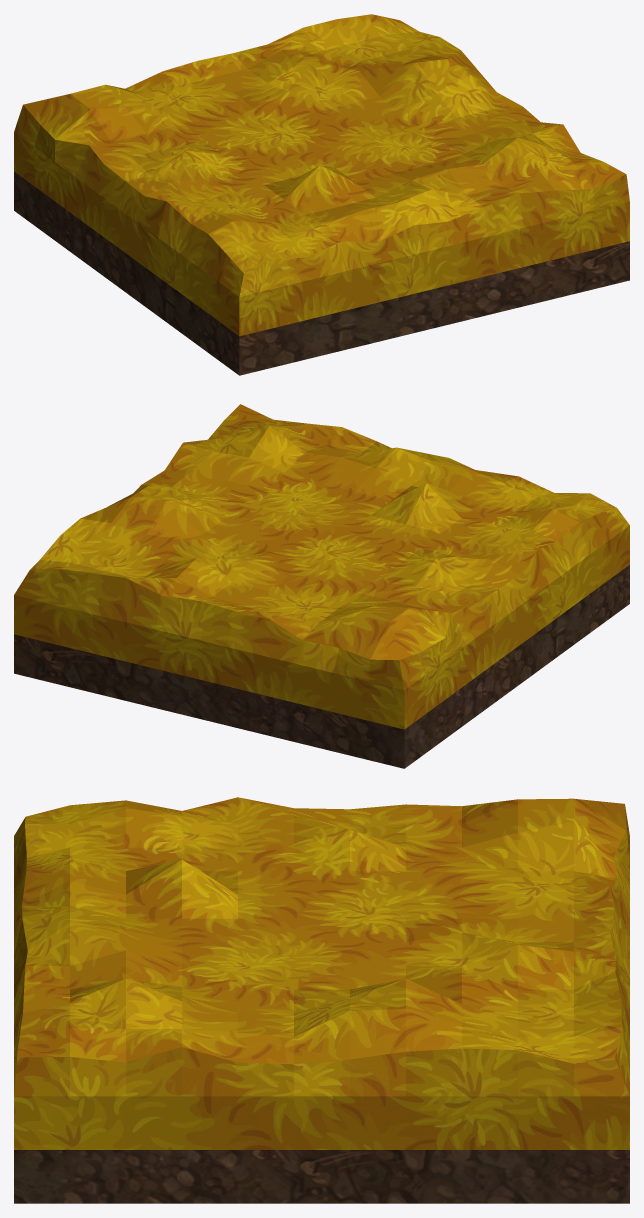
Rendered from DeadGround.fbx.
3 renders of one model, top to bottom at view 1: azimuth 30°, elevation 25°; view 2: azimuth 150°, elevation 25°; view 3: azimuth 270°, elevation 25°, orthographic. The views are drawn at different scales.
Visible parts, largest first — view 1: DeadGround; view 2: DeadGround; view 3: DeadGround.
Boxes of the visible parts, x1,y1,x2,y2 form: DeadGround: (14, 14, 629, 375); DeadGround: (14, 404, 629, 768); DeadGround: (14, 797, 629, 1203).
Bounding box in the file's own units: 32 × 100 × 100.
2 materials, 2 textured.
